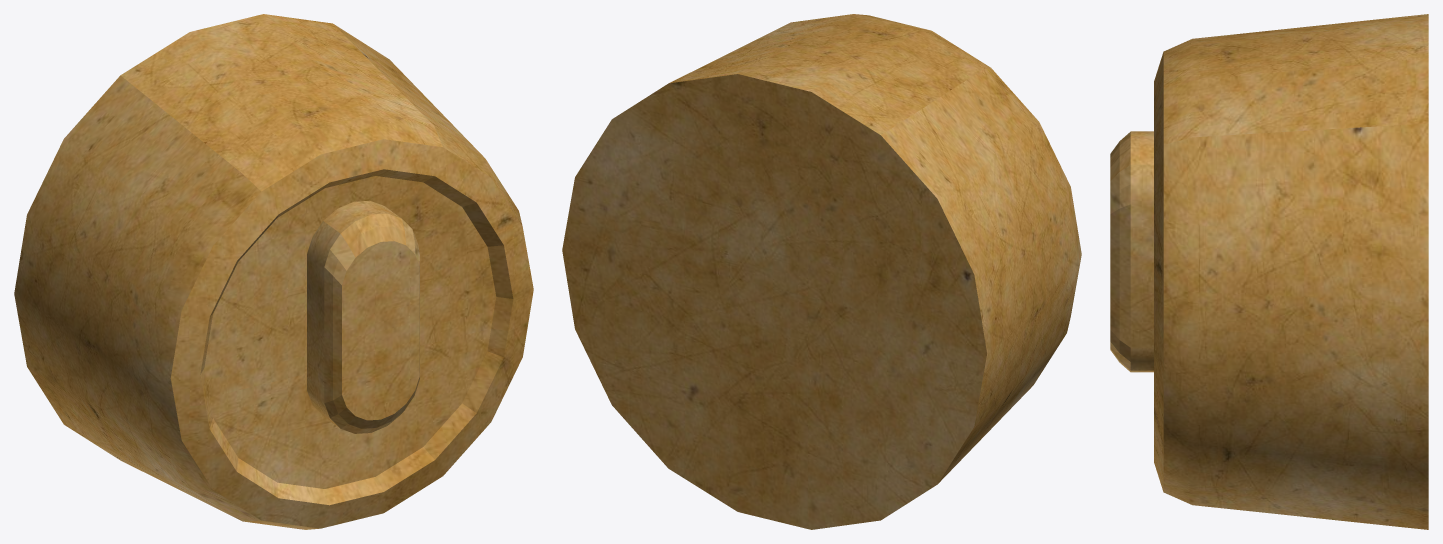
Rendered from knob-2.glb.
3 renders of one model, left to right at view 1: azimuth 30°, elevation 25°; view 2: azimuth 150°, elevation 25°; view 3: azimuth 270°, elevation 25°, orthographic. The views are drawn at different scales.
Visible parts, largest first — view 1: world; view 2: world; view 3: world.
Boxes of the visible parts, x1=… form: world: x1=14, y1=14, x2=533, y2=529; world: x1=562, y1=14, x2=1081, y2=529; world: x1=1110, y1=14, x2=1428, y2=529.
Size of the model in its own units: 0.0628 by 0.0619 by 0.0386.
1 material, 1 textured.
